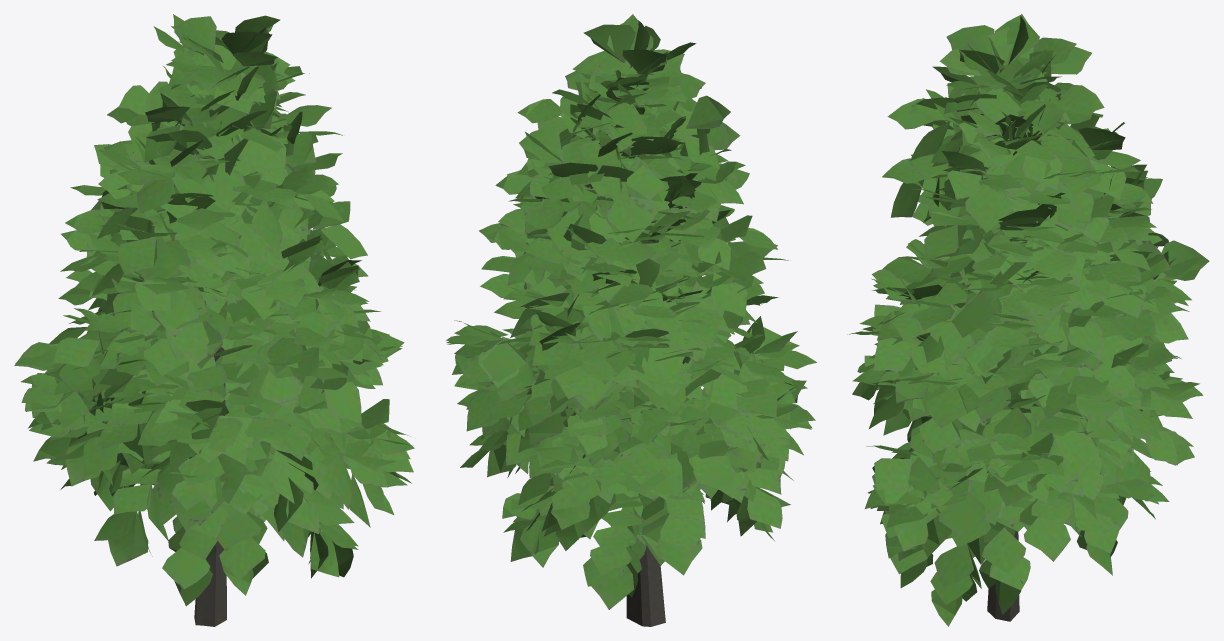
Rendered from tree1COM.glb.
The picture shows the model from 3 angles, left to right: view 1: azimuth 30°, elevation 25°; view 2: azimuth 150°, elevation 25°; view 3: azimuth 270°, elevation 25°; orthographic projection. The views are drawn at different scales.
Parts seen in each view (by area): view 1: tree1COM; view 2: tree1COM; view 3: tree1COM.
Part boxes in pixels (box(x1,y1,x2,y2)): tree1COM: box(14, 14, 414, 626); tree1COM: box(446, 14, 816, 626); tree1COM: box(847, 14, 1209, 626).
Bounding box in the file's own units: 348 × 529 × 296.
Materials: 1 (1 with a texture image).
